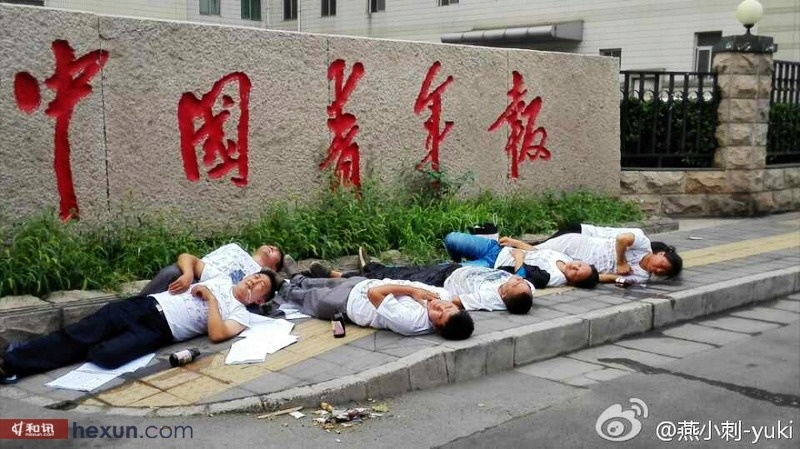falling: (435, 222, 602, 305)
